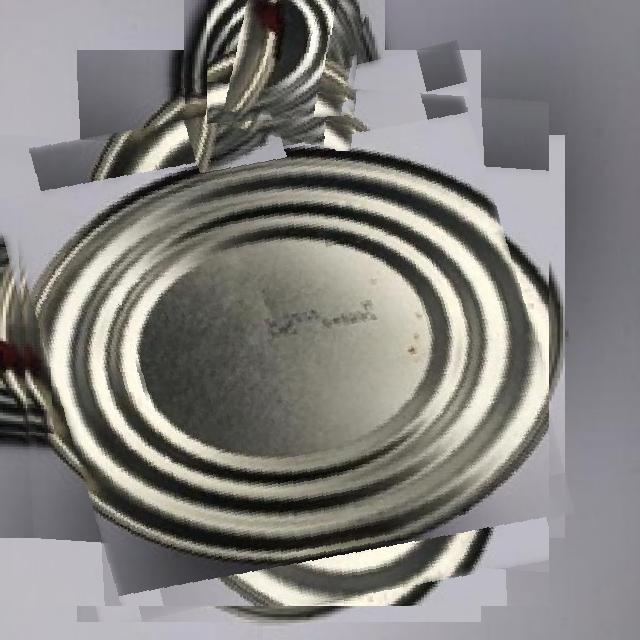recyclable: (9, 66, 549, 606), (207, 0, 361, 124)
